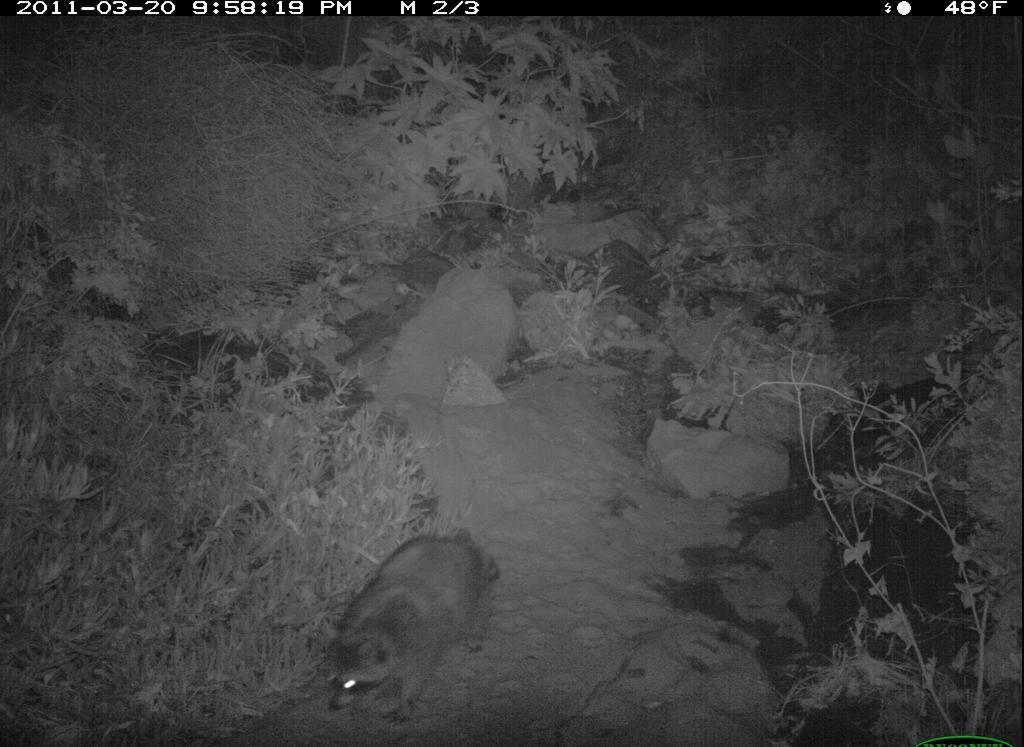raccoon: (309, 515, 525, 738)
